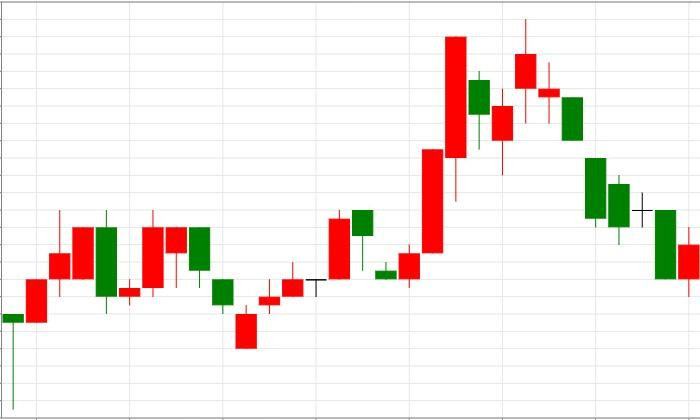bearish_engulfing_fall: (2, 210, 118, 409), (118, 209, 211, 306)
three_white_soldiers_rise: (141, 209, 305, 349)
